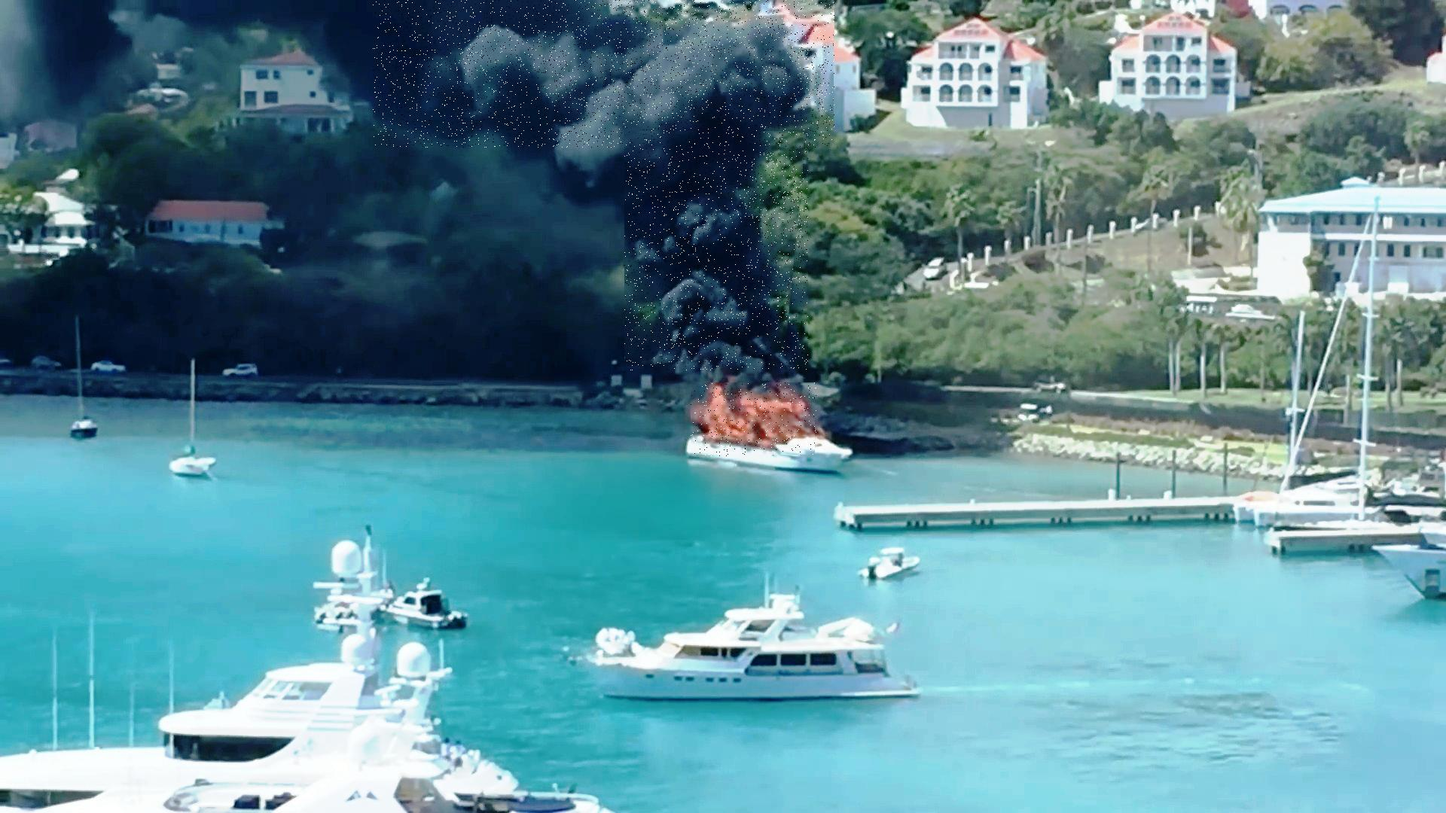fire: (691, 383, 817, 456)
smoke: (373, 0, 834, 148), (624, 132, 808, 371)
